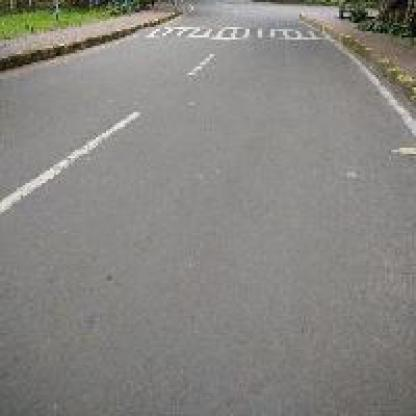Speed Bump: (146, 23, 326, 41)
